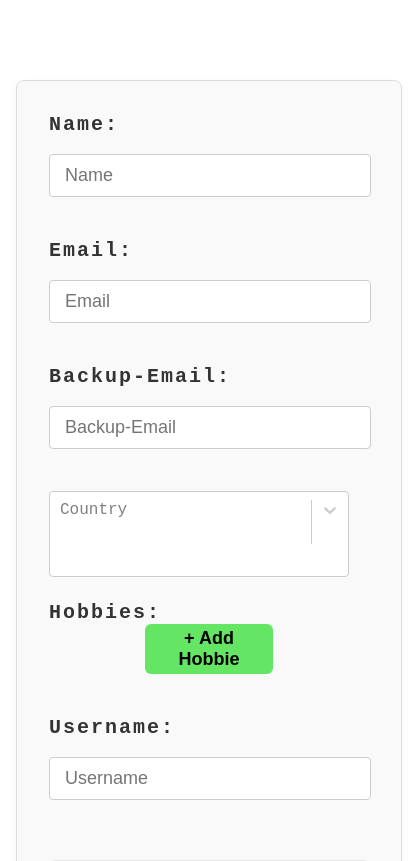
it: shows name must have min length
Type "a" into the field with placeholder "Name" at (210, 176), box [49,154,371,197]
(page scrolled)
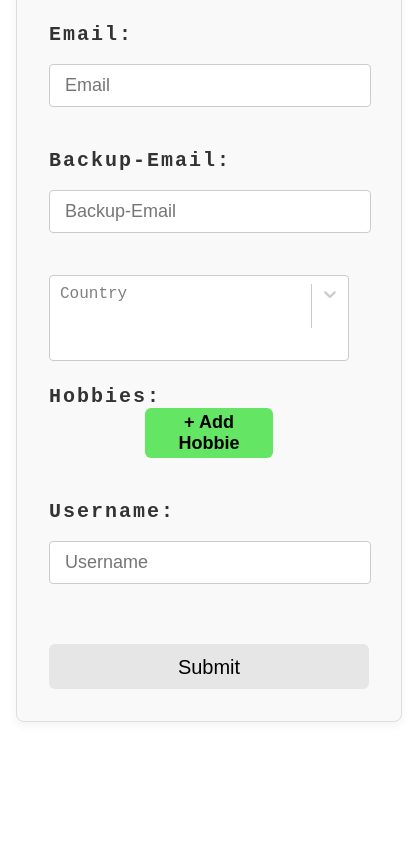
Click the button "Submit" at (209, 666), box [49,644,369,689]
(page scrolled)
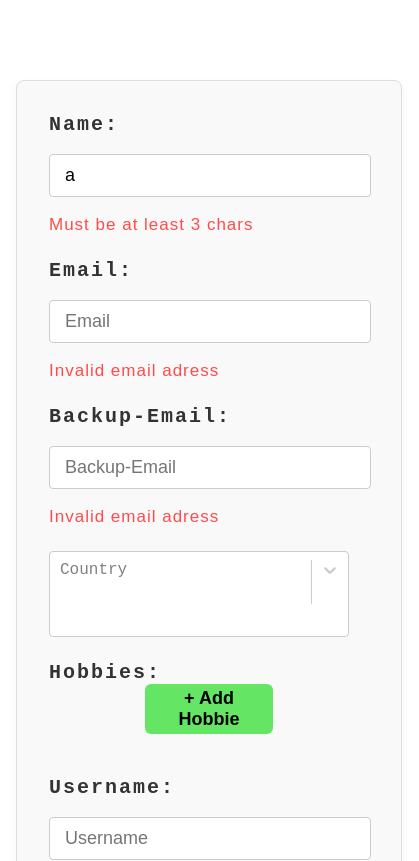
Expected: the text "Must be at least 3 chars" is shown, [49,215,254,234]
